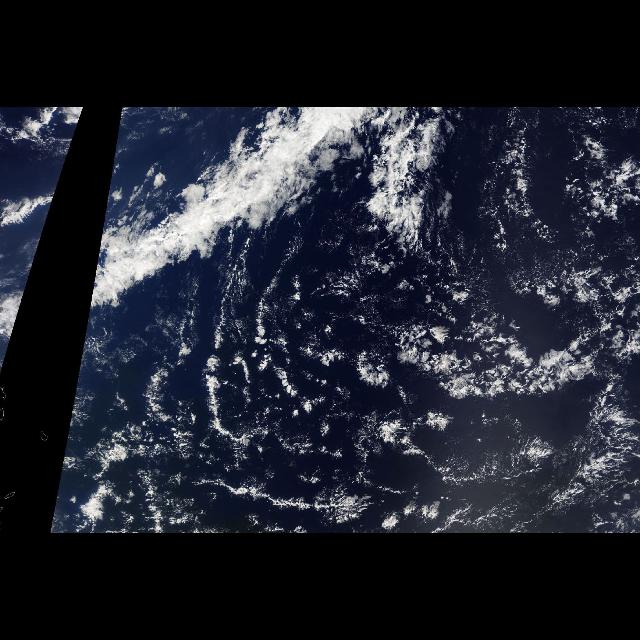Flower: (73, 309, 594, 533)
Gravel: (182, 254, 640, 336)
